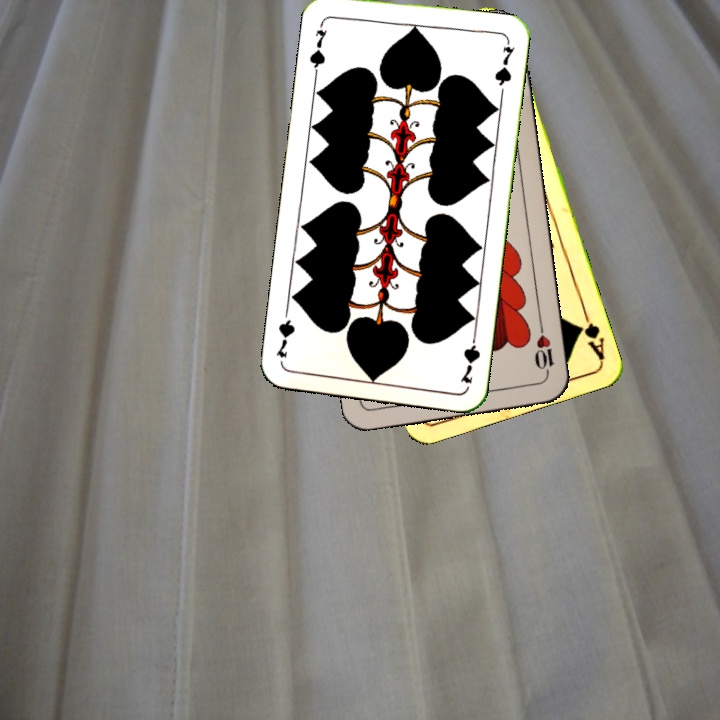G7: (456, 328, 483, 386), (305, 17, 330, 76)
GA: (573, 304, 607, 362)
H10: (530, 321, 557, 380)
